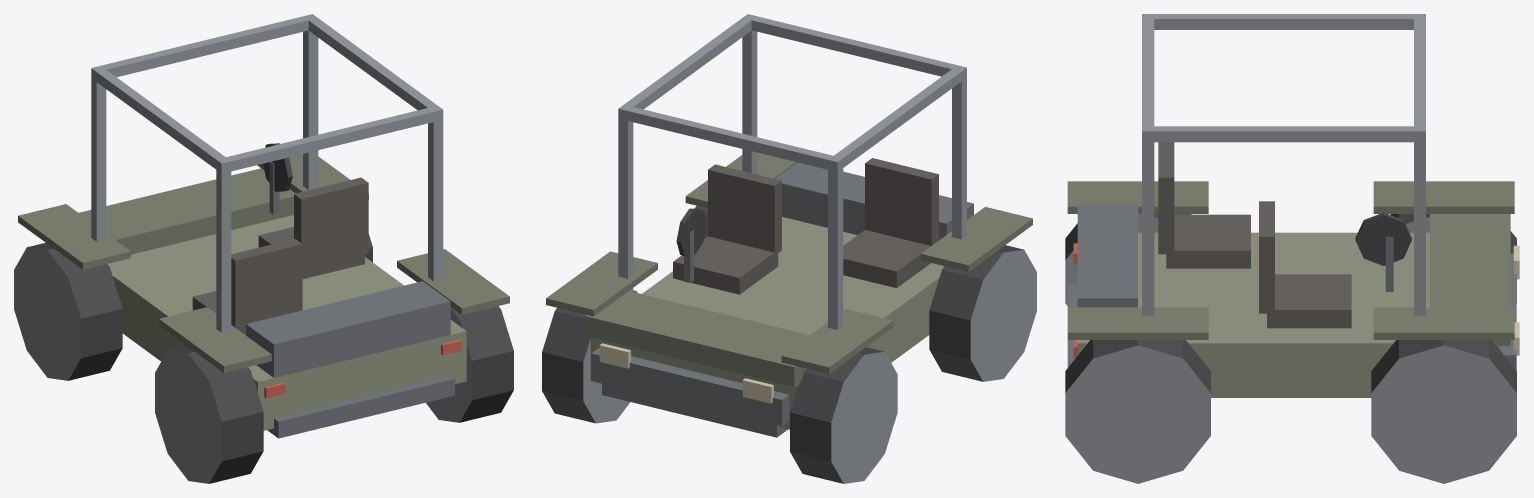
The model's file is rover.v1.glb.
3 views of the same model, side by side, from view 1: azimuth 30°, elevation 25°; view 2: azimuth 150°, elevation 25°; view 3: azimuth 270°, elevation 25° (orthographic). The views are drawn at different scales.
Visible parts, largest first — view 1: vehicle.rover.v1; view 2: vehicle.rover.v1; view 3: vehicle.rover.v1.
Boxes of the visible parts, x1,y1,x2,y2 form: vehicle.rover.v1: (14, 14, 513, 483); vehicle.rover.v1: (542, 14, 1036, 483); vehicle.rover.v1: (1065, 14, 1519, 483).
Bounding box in the file's own units: 1.82 × 1.83 × 2.26.
